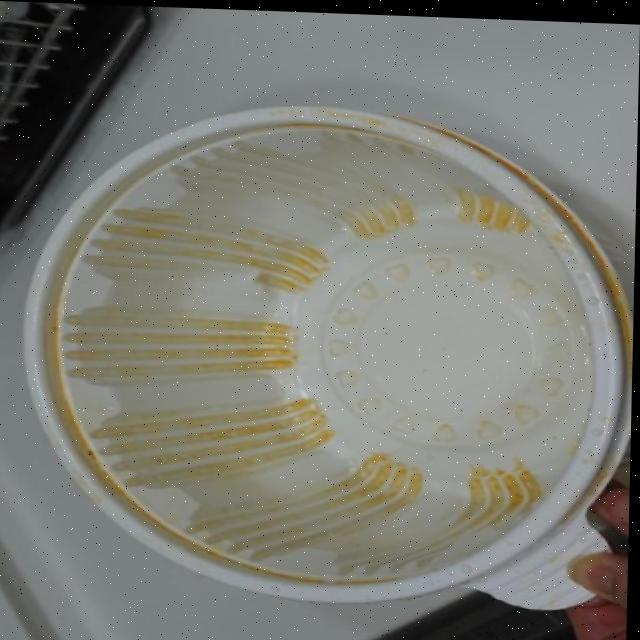disposable: (5, 39, 639, 640)
